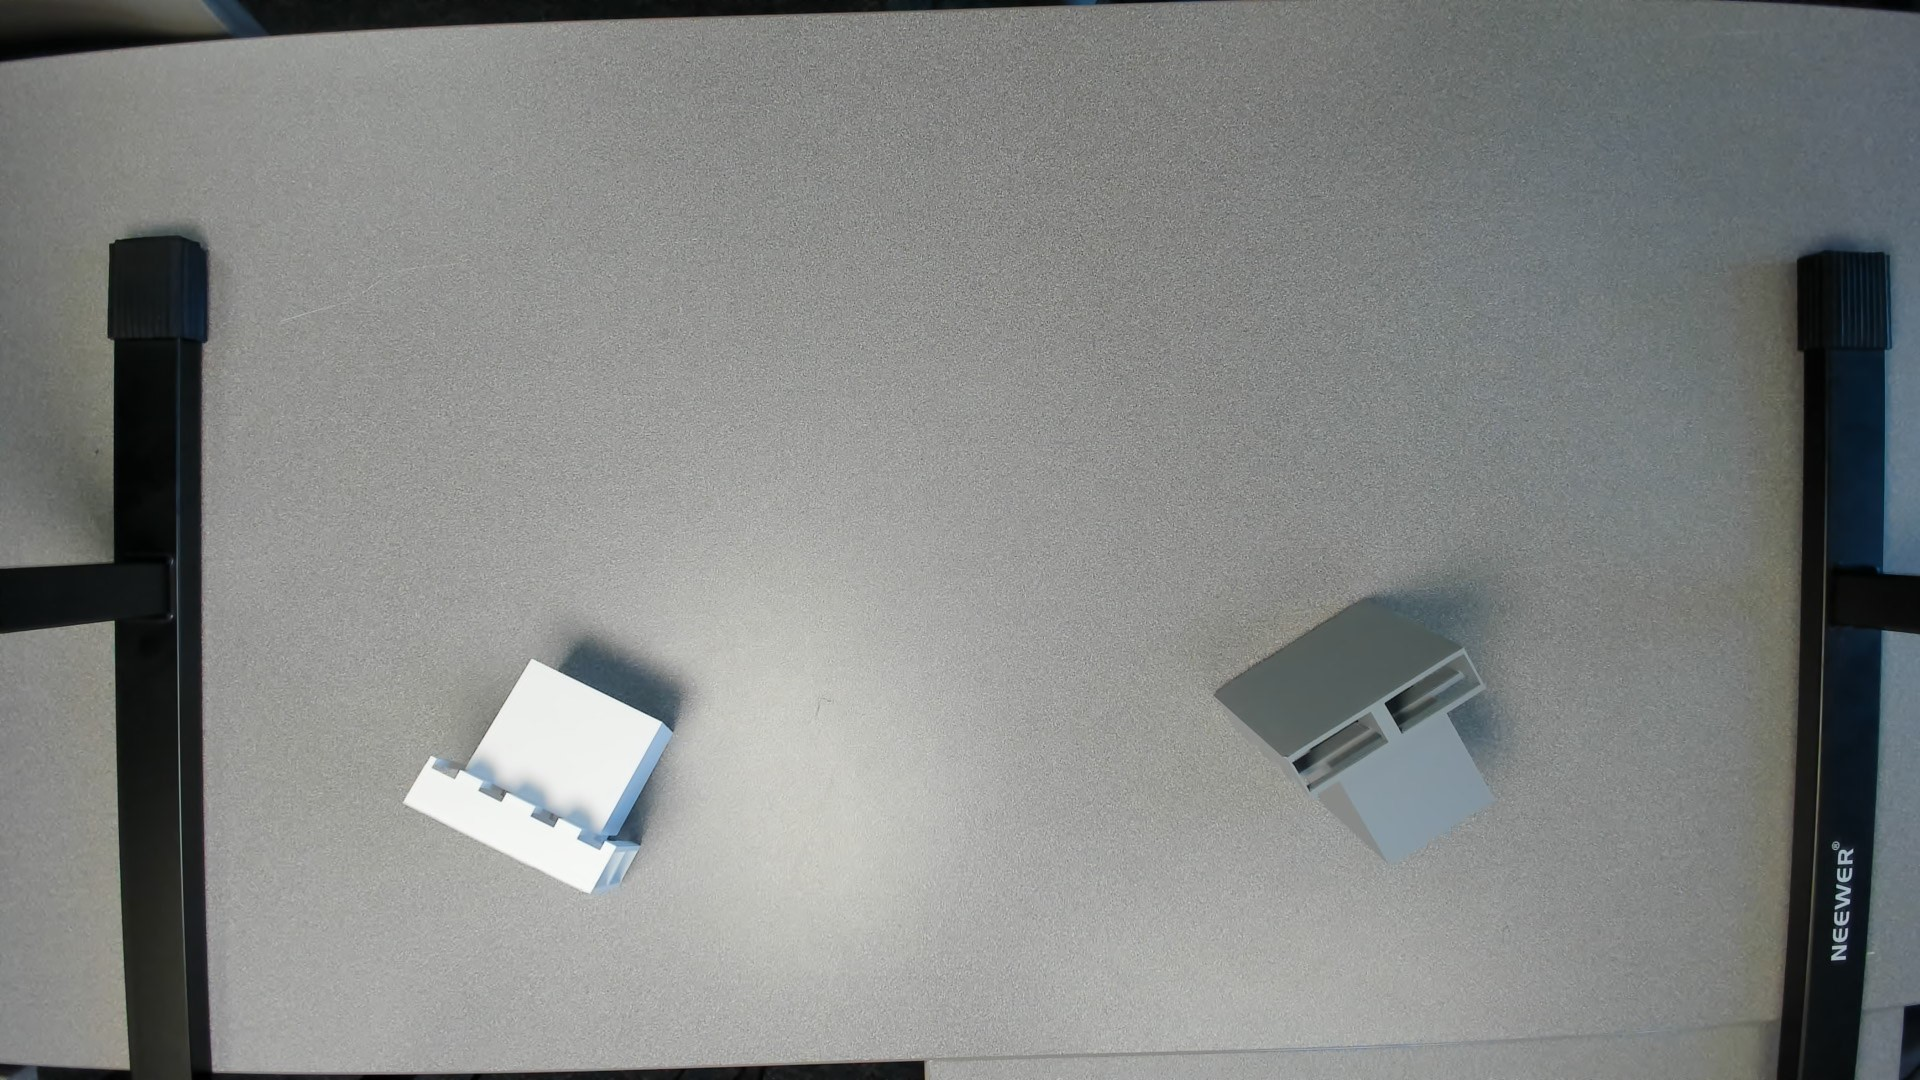grey pallet: (1196, 592, 1506, 887)
white pallet: (396, 646, 682, 913)
